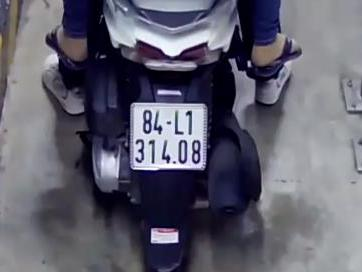num_plate: (128, 101, 207, 170)
